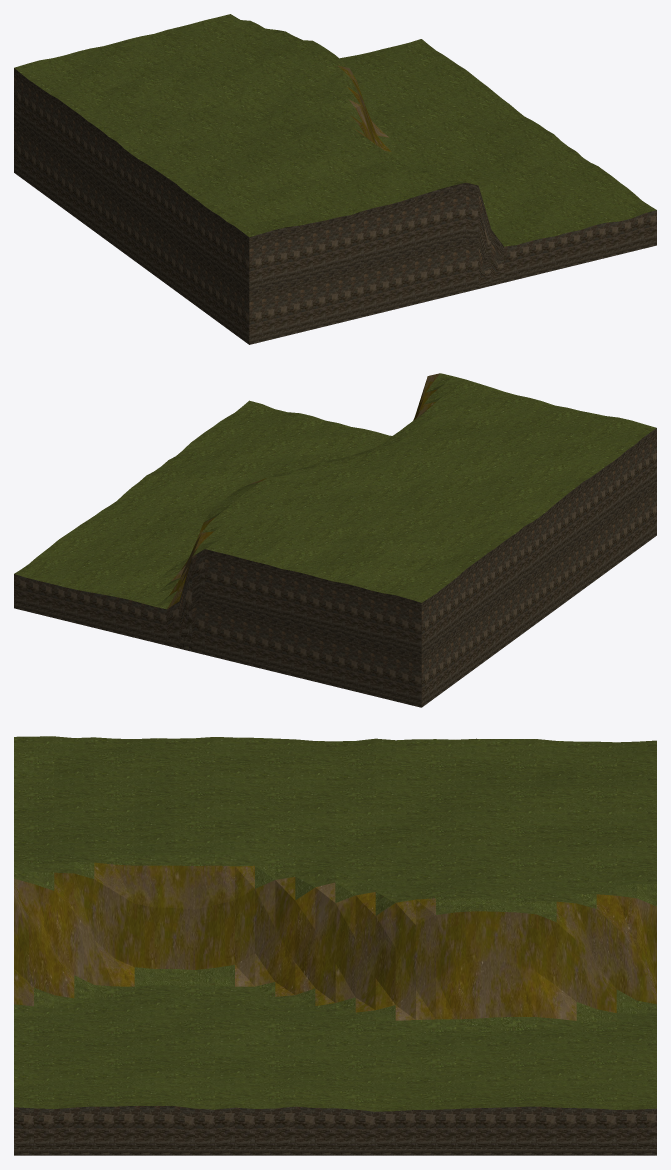
Rendered from cliff_ledge_01.glb.
3 views of the same model, one above another, from view 1: azimuth 30°, elevation 25°; view 2: azimuth 150°, elevation 25°; view 3: azimuth 270°, elevation 25° (orthographic). The views are drawn at different scales.
Parts seen in each view (by area): view 1: cliff_ledge_01; view 2: cliff_ledge_01; view 3: cliff_ledge_01.
Part boxes in pixels (bbox=[...]): cliff_ledge_01: bbox=[14, 14, 656, 344]; cliff_ledge_01: bbox=[14, 373, 656, 707]; cliff_ledge_01: bbox=[14, 736, 656, 1155].
Size of the model in its own units: 16 by 4.12 by 16.
3 materials, 3 textured.
